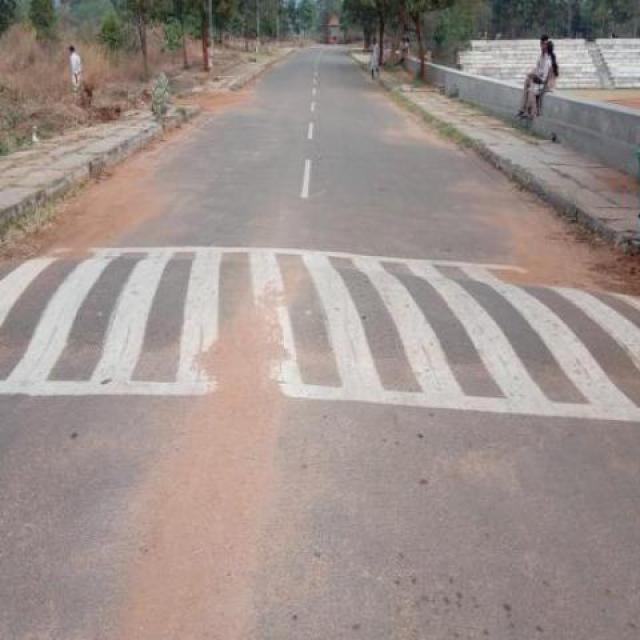Speed Bump: (0, 245, 639, 426)
